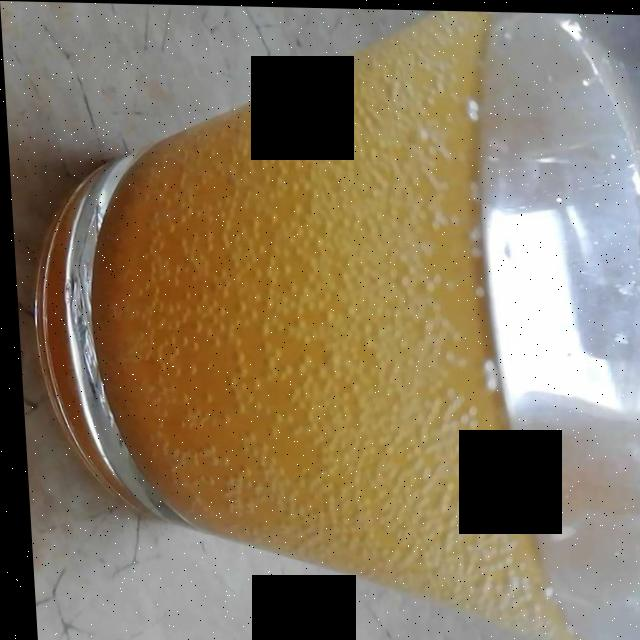kefir-drink: (92, 20, 610, 631)
